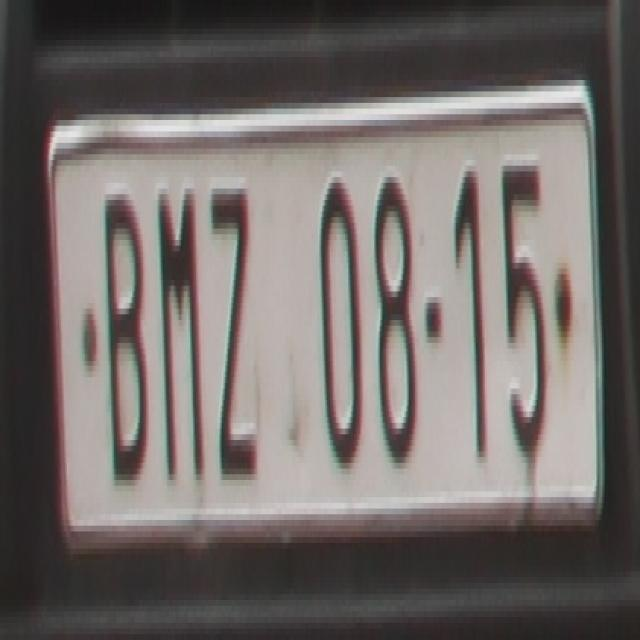0: (318, 177, 365, 480)
1: (455, 160, 488, 457)
5: (499, 148, 550, 446)
8: (372, 171, 418, 463)
B: (103, 183, 149, 474)
M: (155, 177, 204, 480)
Z: (208, 177, 258, 480)
